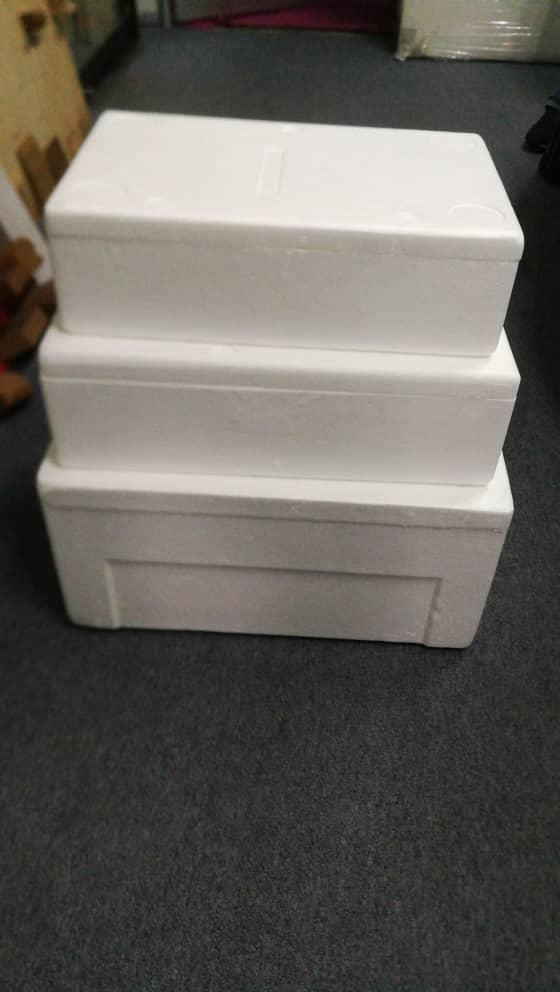Foam Box: (20, 96, 533, 659)
